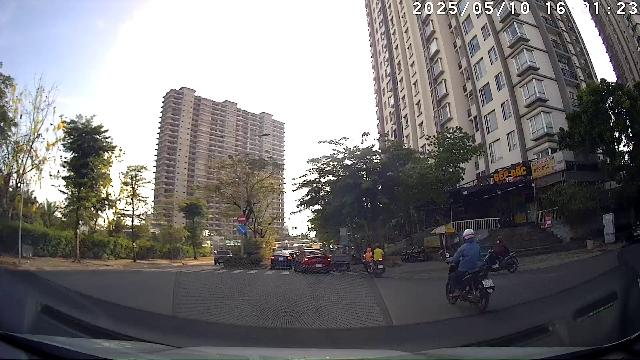102-cam-di-nguoc-chieu: (238, 214, 246, 223)
302a-huong-phai-di-vong-chuong-ngai-vat-1: (238, 225, 246, 235)
